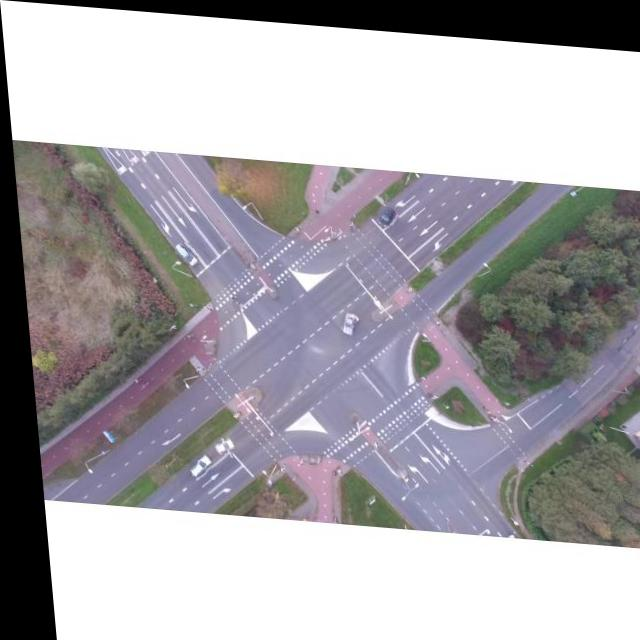vehicle: (369, 197, 397, 222), (331, 305, 356, 332), (170, 238, 195, 265), (178, 451, 205, 475), (205, 432, 228, 453)
